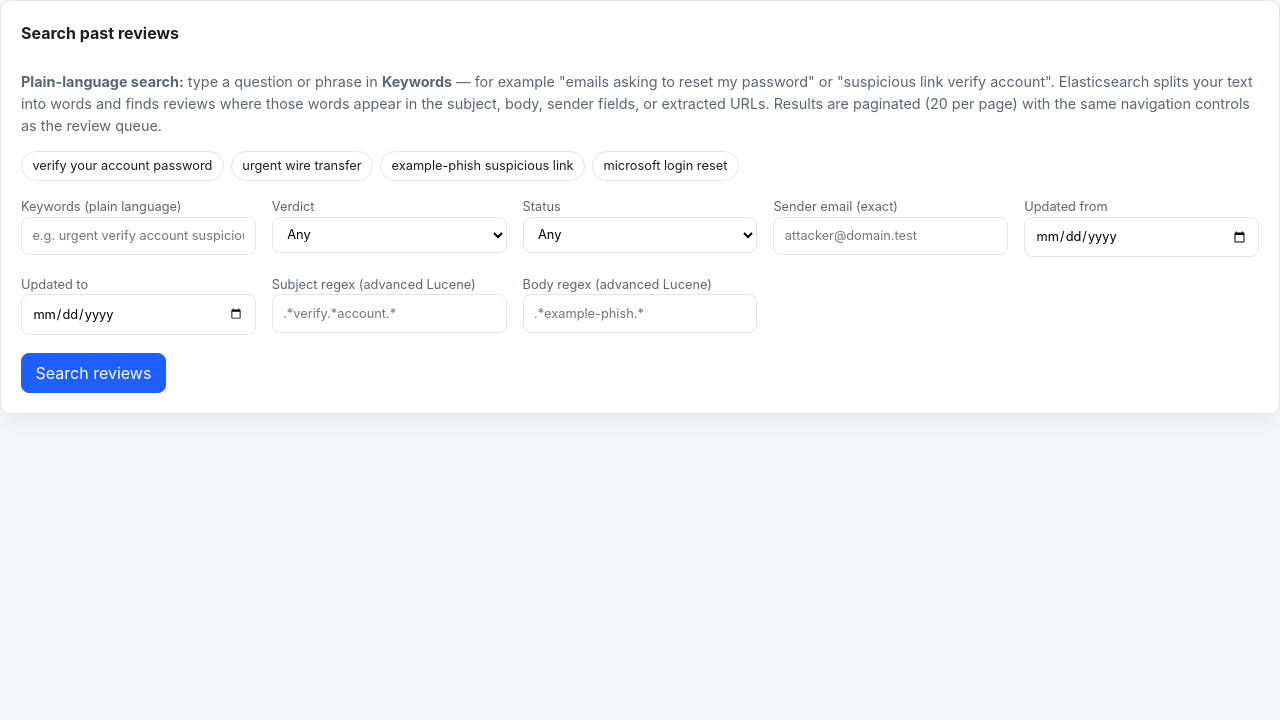
Test: ReviewSearchPanel pagination › shows pagination controls after search and loads next page
Click the button "Search reviews" at (94,373), box x1=21 y1=352 x2=166 y2=393
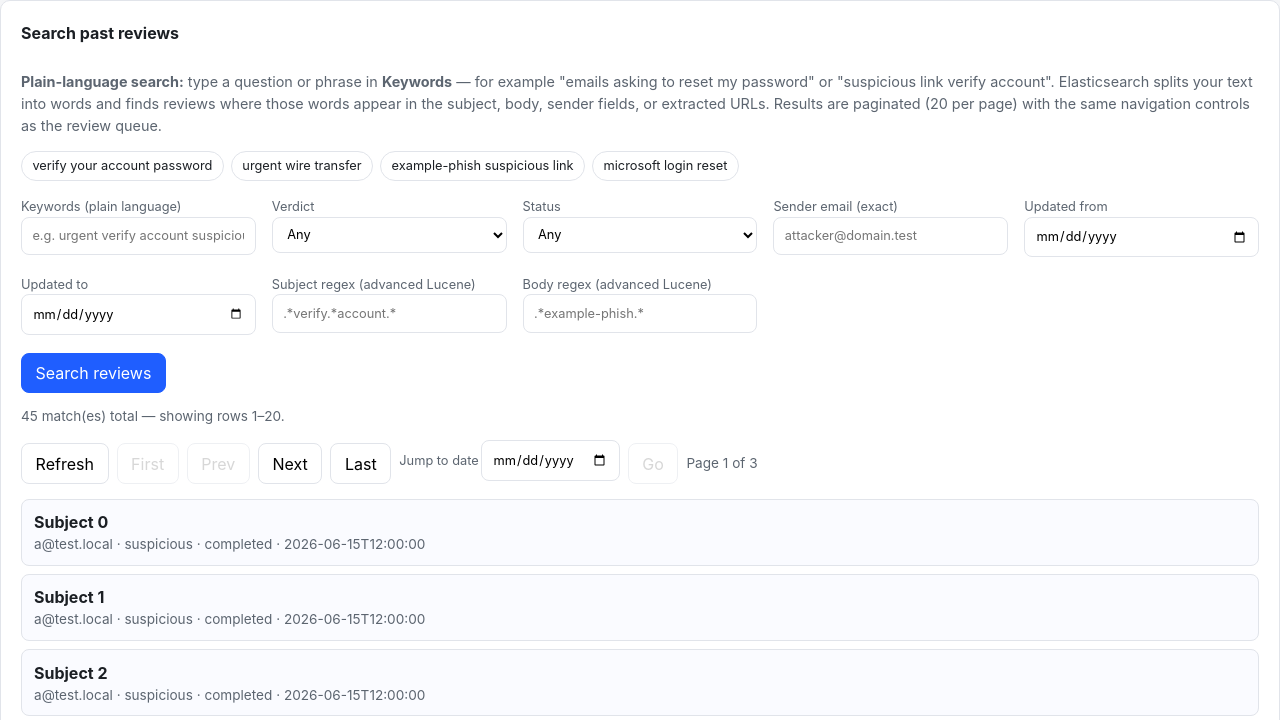
Check: the text "45 match(es) total — showing rows 1–20." is shown, box x1=21 y1=408 x2=285 y2=424
Check: the button "Next" is enabled
Check: the button "First" is disabled, box x1=116 y1=444 x2=179 y2=484
Click the button "Next" at (290,464), box x1=258 y1=444 x2=322 y2=484
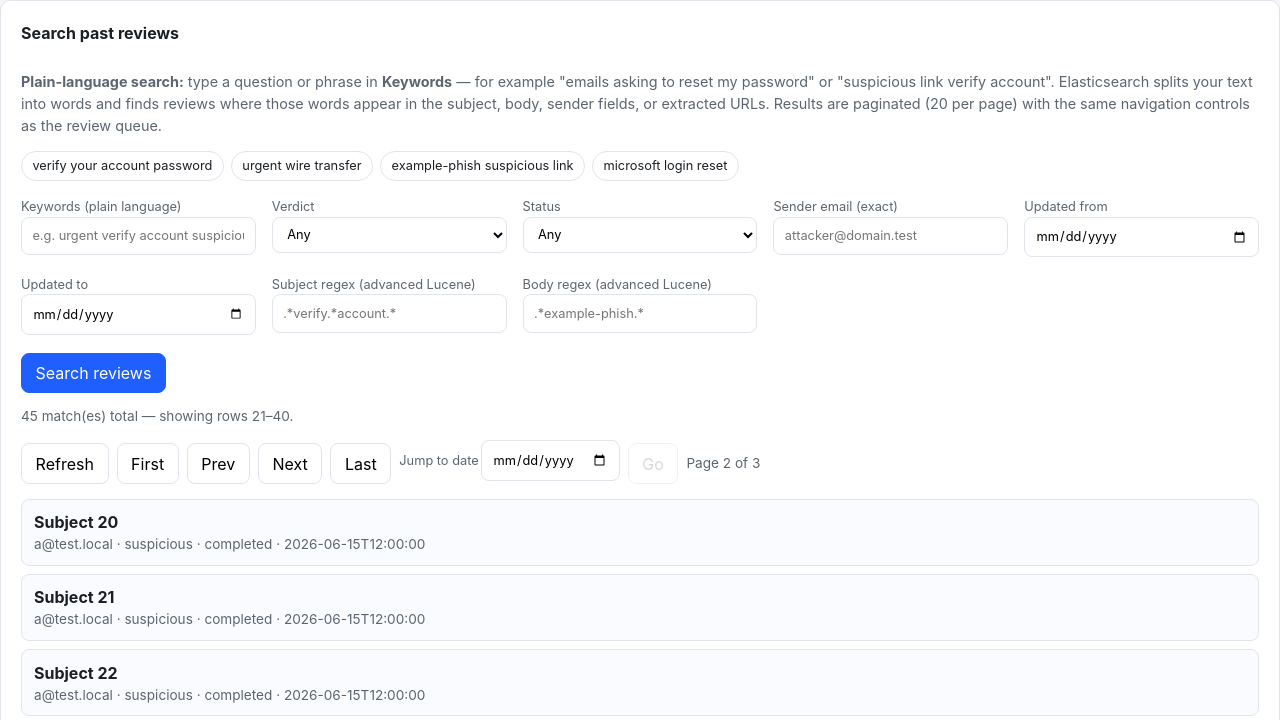
Check: the text "Page 2 of 3" is shown, box x1=686 y1=454 x2=760 y2=474
